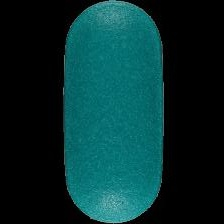50844-548: (0, 0, 224, 224)
